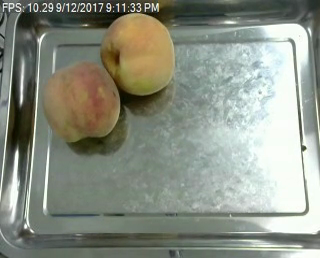Peach: (42, 60, 121, 142), (100, 12, 174, 95)
